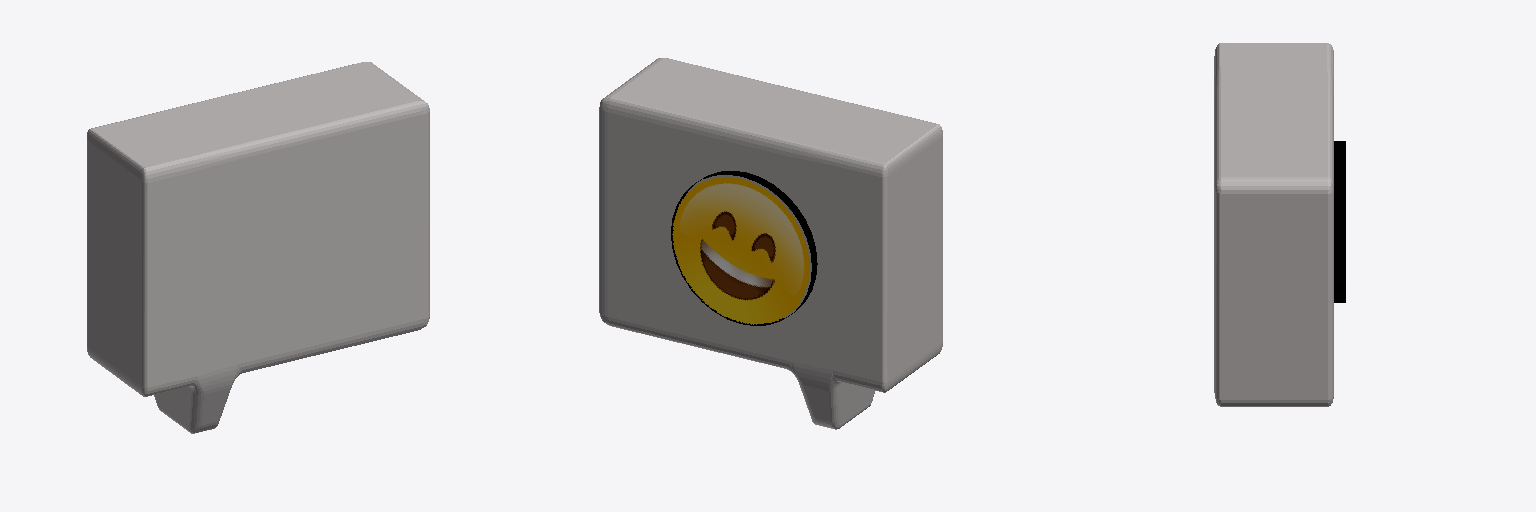
3 views of the same model, side by side, from view 1: azimuth 30°, elevation 25°; view 2: azimuth 150°, elevation 25°; view 3: azimuth 270°, elevation 25° (orthographic).
Parts seen in each view (by area): view 1: Cube; view 2: Cube, Cylinder, Cylinder.001; view 3: Cube, Cylinder.001.
Boxes of the visible parts, box(x1,y1,x2,y2) form: Cube: box(87, 62, 429, 433); Cube: box(599, 58, 942, 429); Cylinder: box(672, 177, 809, 324); Cylinder.001: box(671, 171, 817, 325); Cube: box(1214, 43, 1333, 406); Cylinder.001: box(1334, 141, 1345, 302).
Size of the model in its own units: 2.62 by 2.5 by 1.03.
3 materials, 1 textured.